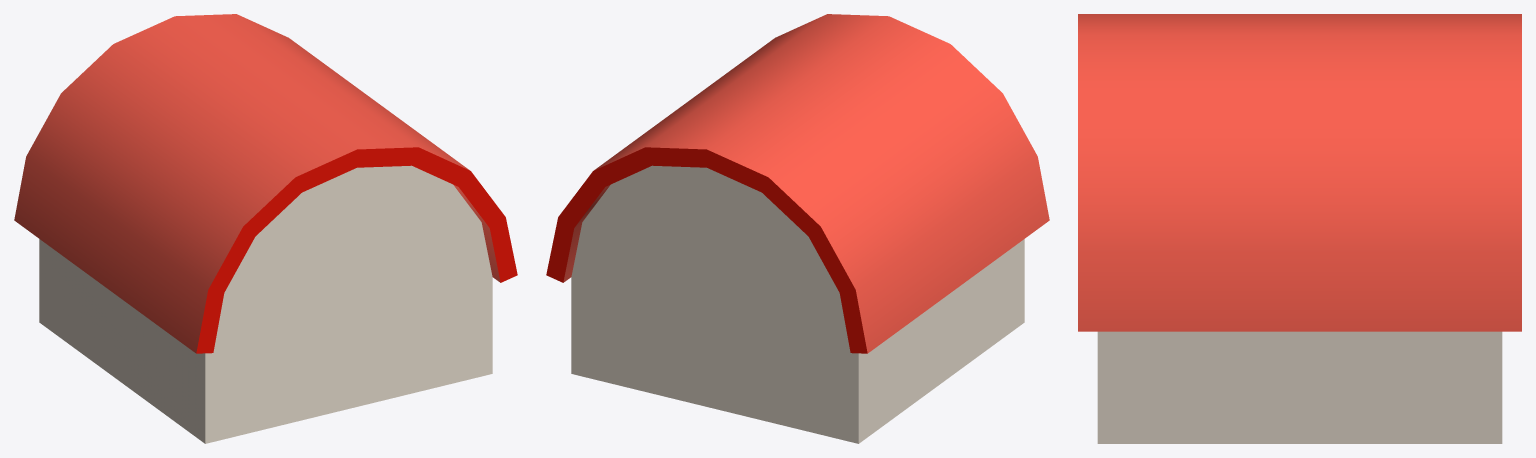
The model's file is Map-House-R-Lv1-R.fbx.
3 views of the same model, side by side, from view 1: azimuth 30°, elevation 25°; view 2: azimuth 150°, elevation 25°; view 3: azimuth 270°, elevation 25° (orthographic). The views are drawn at different scales.
Parts seen in each view (by area): view 1: Map-House-R-Lv1-R; view 2: Map-House-R-Lv1-R; view 3: Map-House-R-Lv1-R.
Boxes of the visible parts, x1=… form: Map-House-R-Lv1-R: x1=14, y1=14, x2=517, y2=443; Map-House-R-Lv1-R: x1=546, y1=14, x2=1049, y2=443; Map-House-R-Lv1-R: x1=1078, y1=14, x2=1521, y2=443.
Size of the model in its own units: 1.13 by 0.8886 by 1.11.
